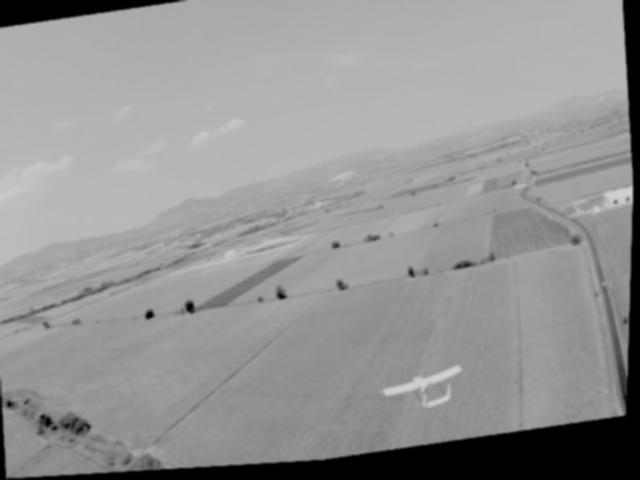hedef: (373, 352, 496, 445)
